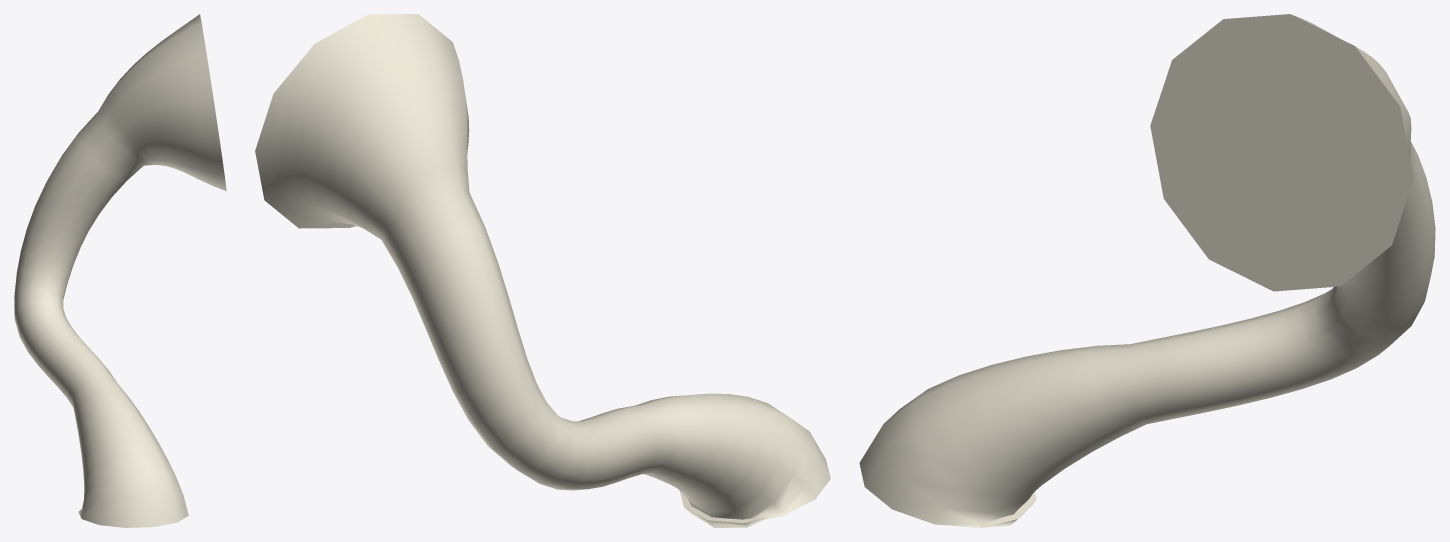
The picture shows the model from 3 angles, left to right: view 1: azimuth 30°, elevation 25°; view 2: azimuth 150°, elevation 25°; view 3: azimuth 270°, elevation 25°; orthographic projection. The views are drawn at different scales.
Parts seen in each view (by area): view 1: ZA_aee00ebd66d4d299; view 2: ZA_aee00ebd66d4d299; view 3: ZA_aee00ebd66d4d299.
Part boxes in pixels (x1,y1,x2,y2): ZA_aee00ebd66d4d299: (14, 14, 226, 527); ZA_aee00ebd66d4d299: (255, 14, 830, 527); ZA_aee00ebd66d4d299: (859, 14, 1435, 527).
Size of the model in its own units: 0.0212 by 0.0297 by 0.0246.
